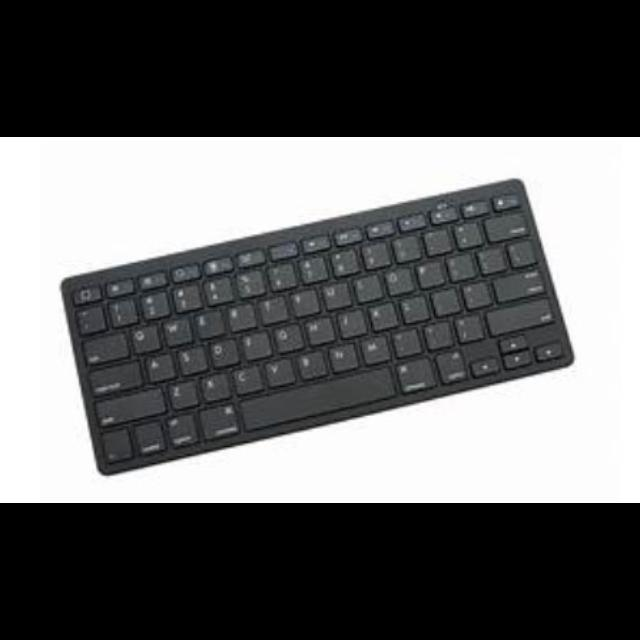Computer-Keyboard: (59, 179, 576, 478)
